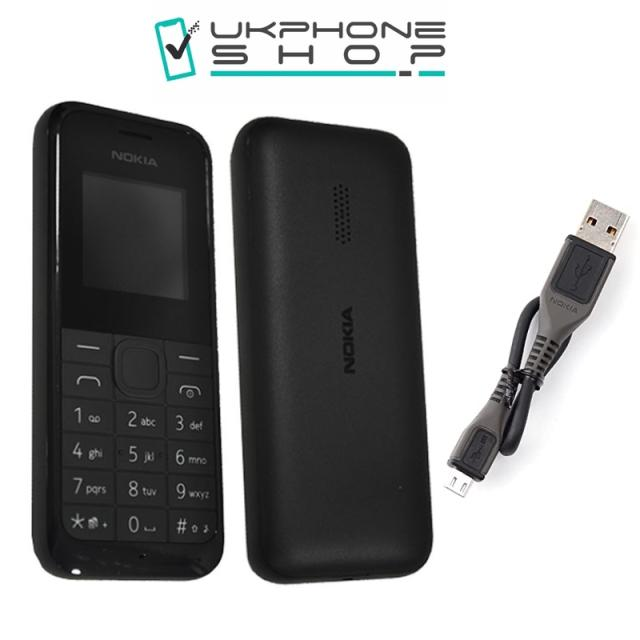mobile phone: (228, 114, 434, 584), (30, 99, 224, 582)
